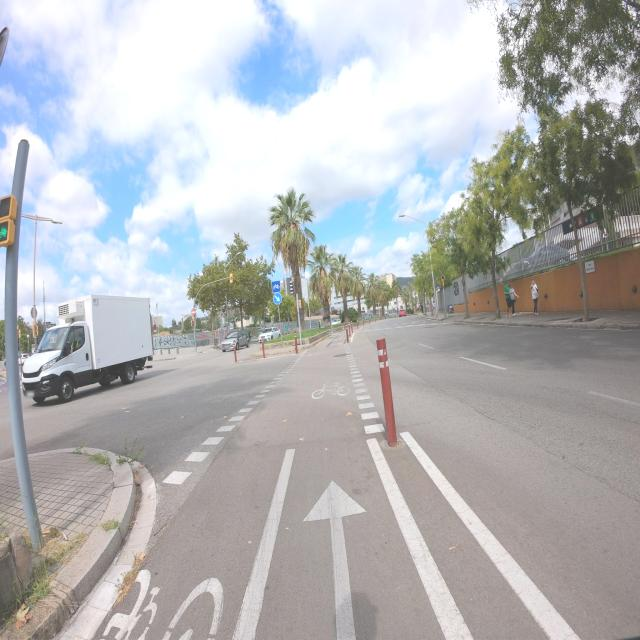car: (220, 330, 249, 352), (258, 324, 282, 343), (398, 308, 407, 317)
